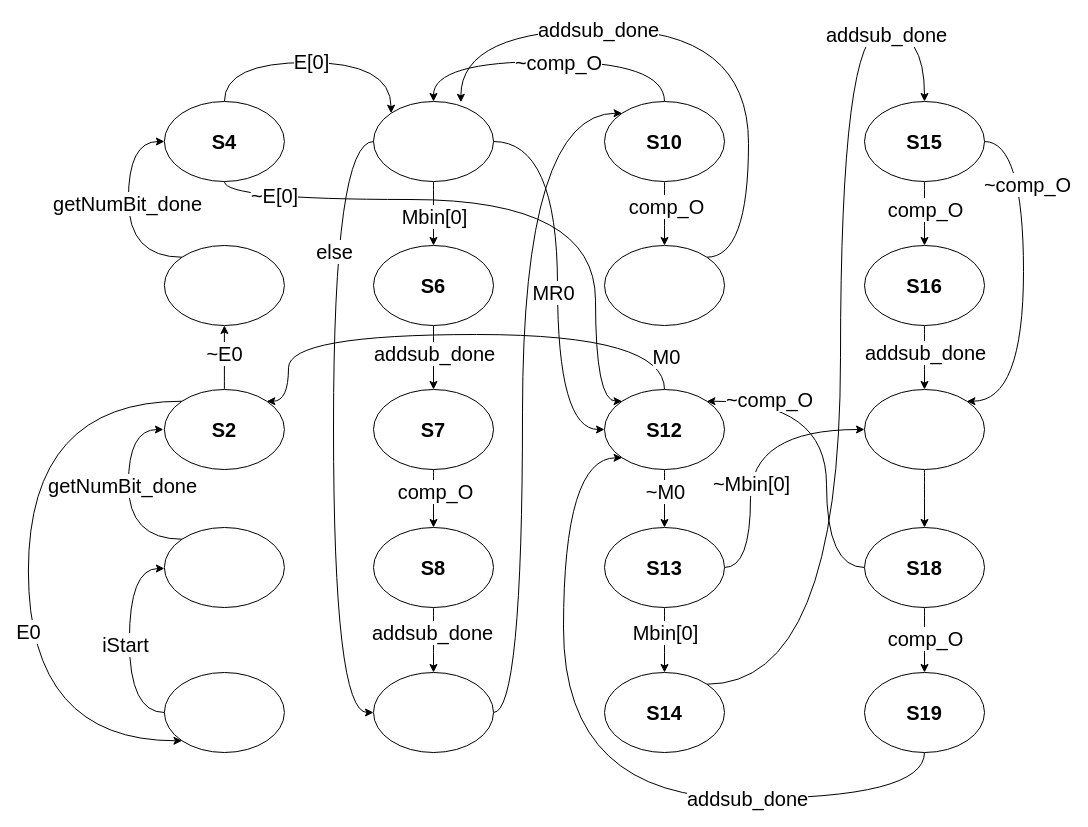
The diagram is 1088 pixels wide and 827 high, and some of its shapes have lost their labels. The centre of each missing label's shape, as x and y in pixels:
"S0" belongs at [223,712].
"S1" belongs at [223,567].
"S11" belongs at [664,285].
"S17" belongs at [924,429].
"S3" belongs at [223,285].
"S5" belongs at [433,141].
"S9" belongs at [433,712].
